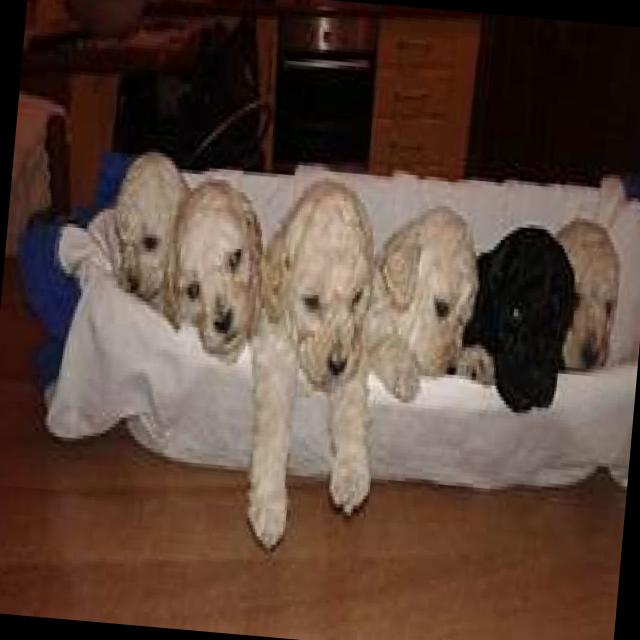animal: (234, 173, 398, 556), (359, 197, 512, 412), (458, 215, 587, 414), (158, 172, 272, 364), (103, 148, 196, 322), (545, 212, 627, 370)
